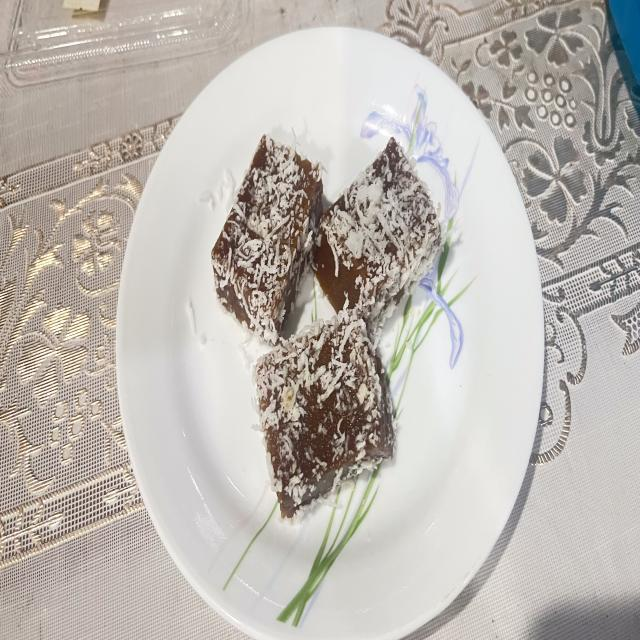kaswi: (255, 309, 395, 518), (314, 138, 442, 344), (211, 136, 322, 344)
